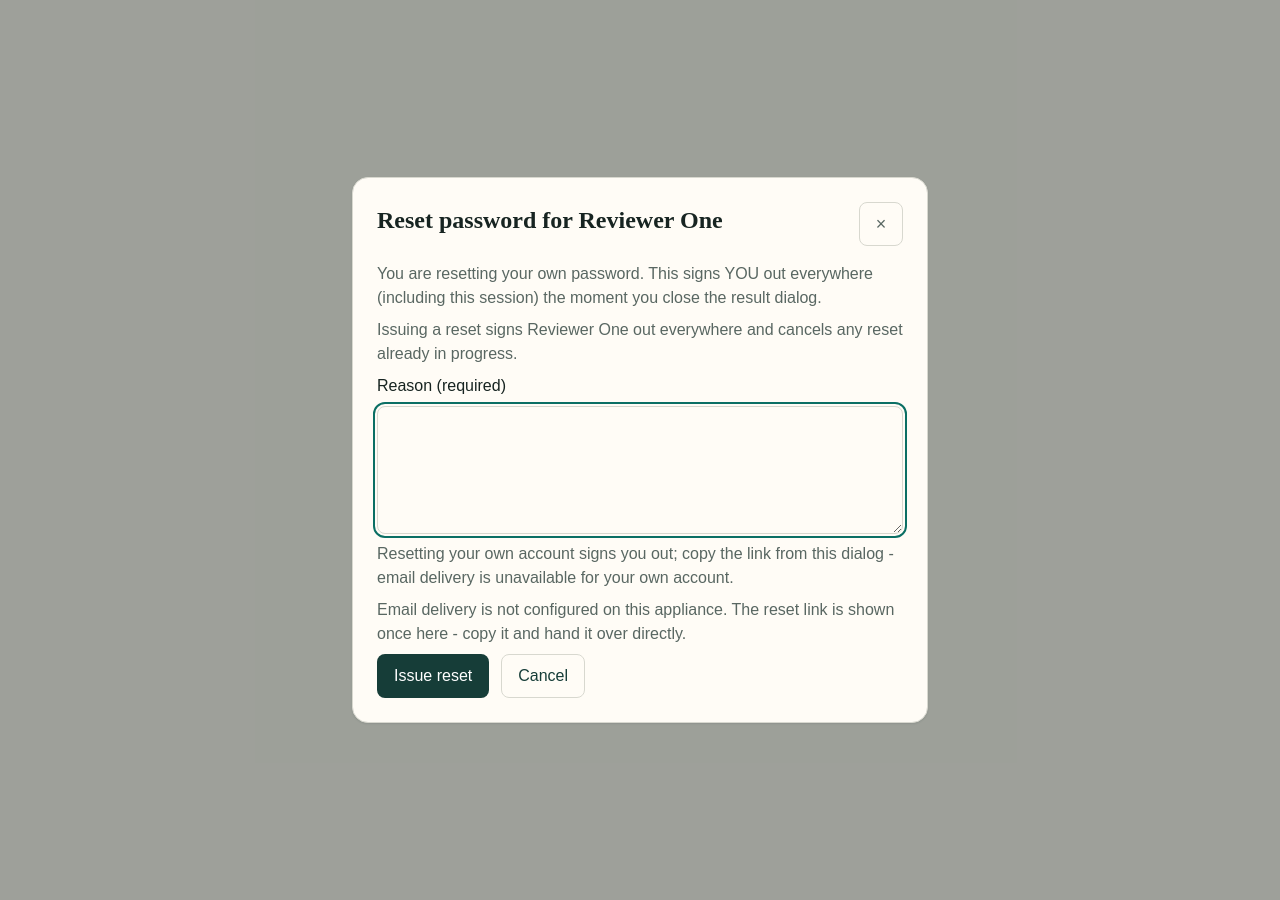
AccountPasswordResetModal › releases the self-reset hold when issuance returns an error
Type "Rotating my own password after a device loss." into the text box labelled "Reason (required)" at [640, 470], box [377,406,903,534]
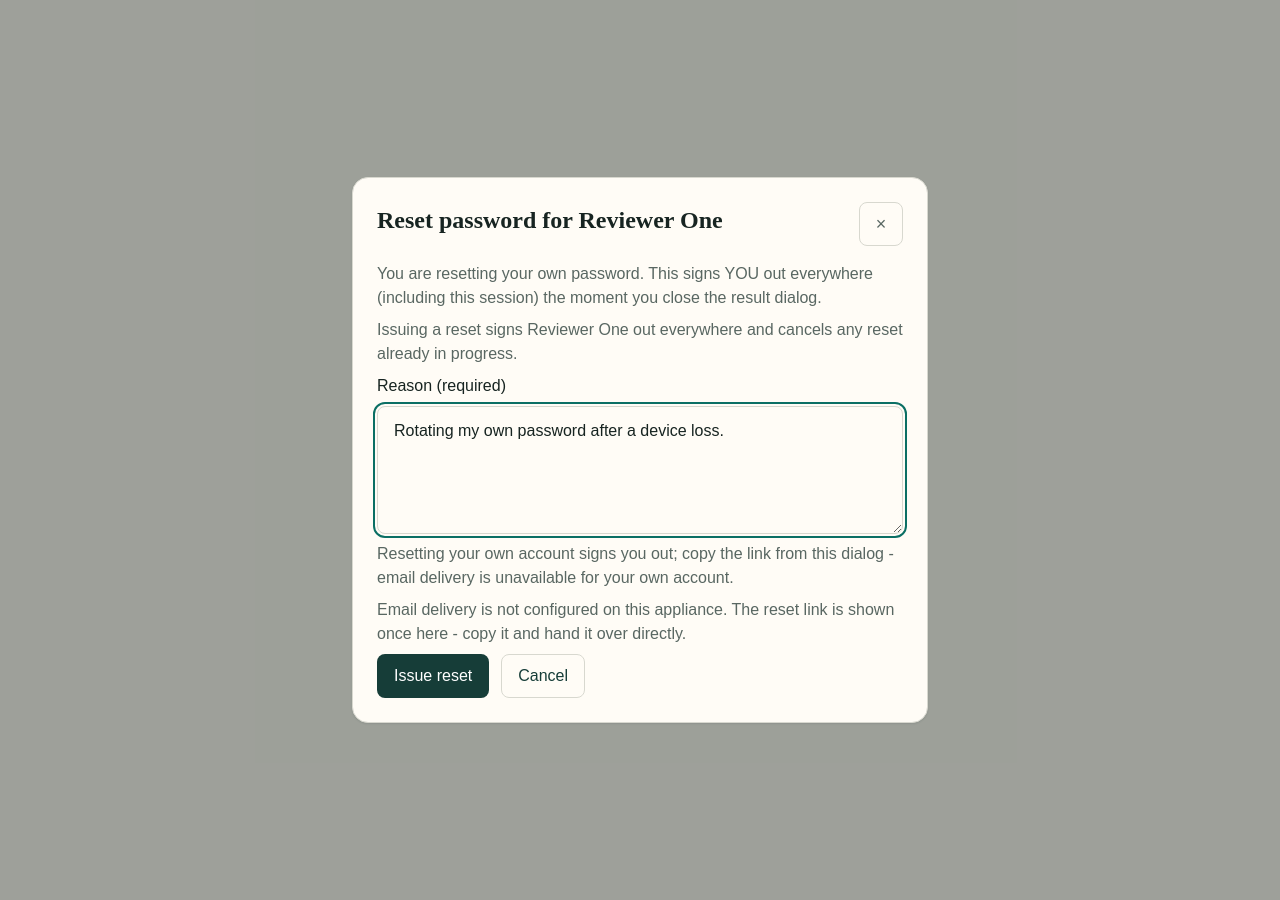
Click the button "Issue reset" at [433, 676], box [377,654,489,698]
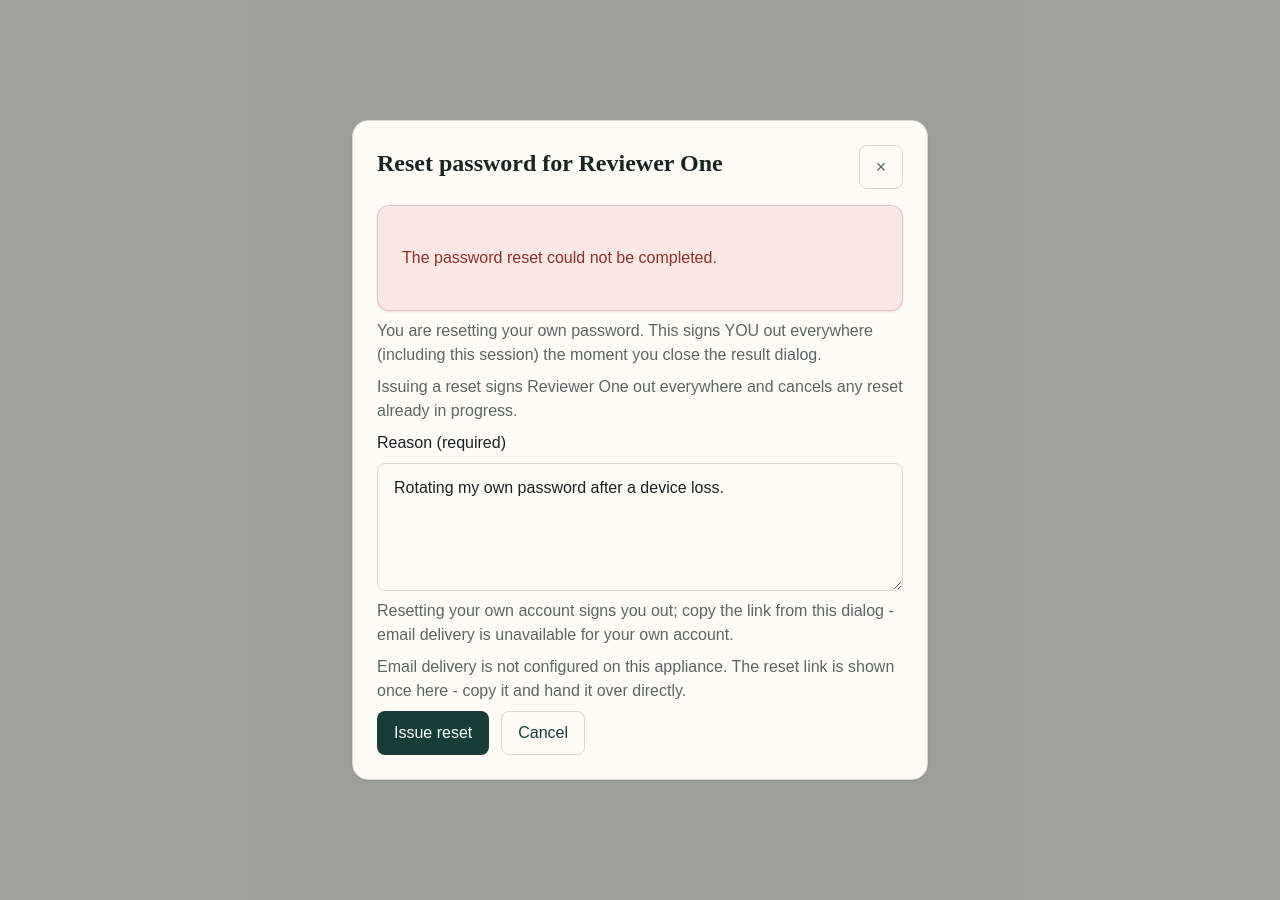
Expected: the message "The password reset could not be completed." is shown, [377,205,903,311]
